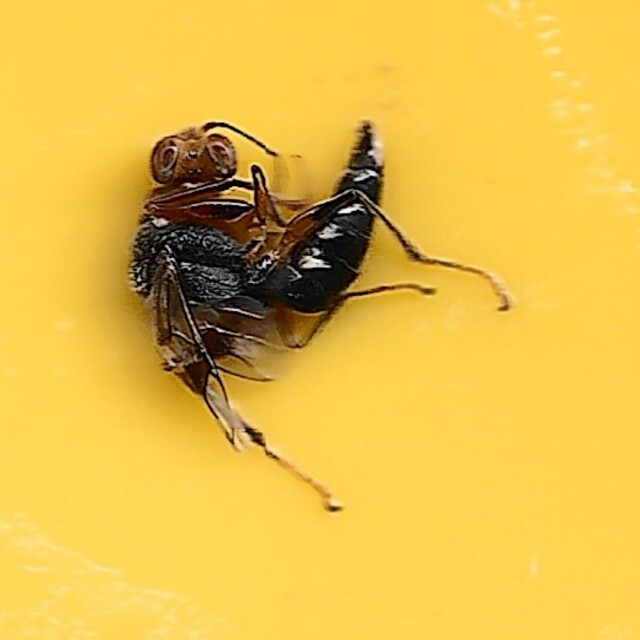Hymenoptera: (123, 118, 517, 522)
